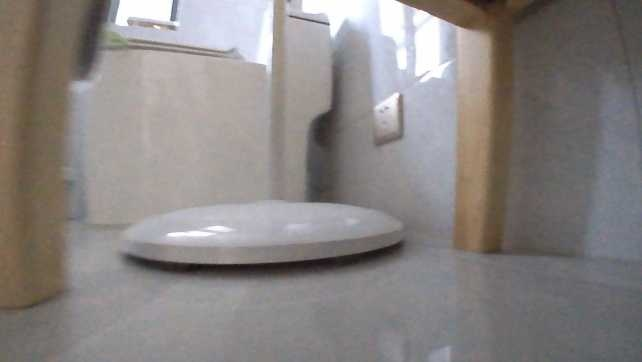toilet: (80, 0, 331, 227)
